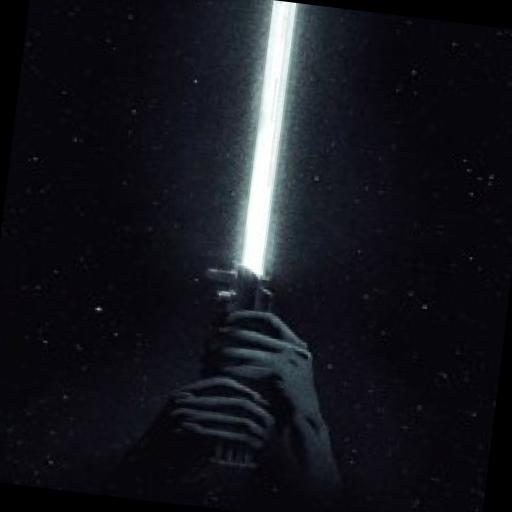lightsaber: (181, 0, 324, 494)
